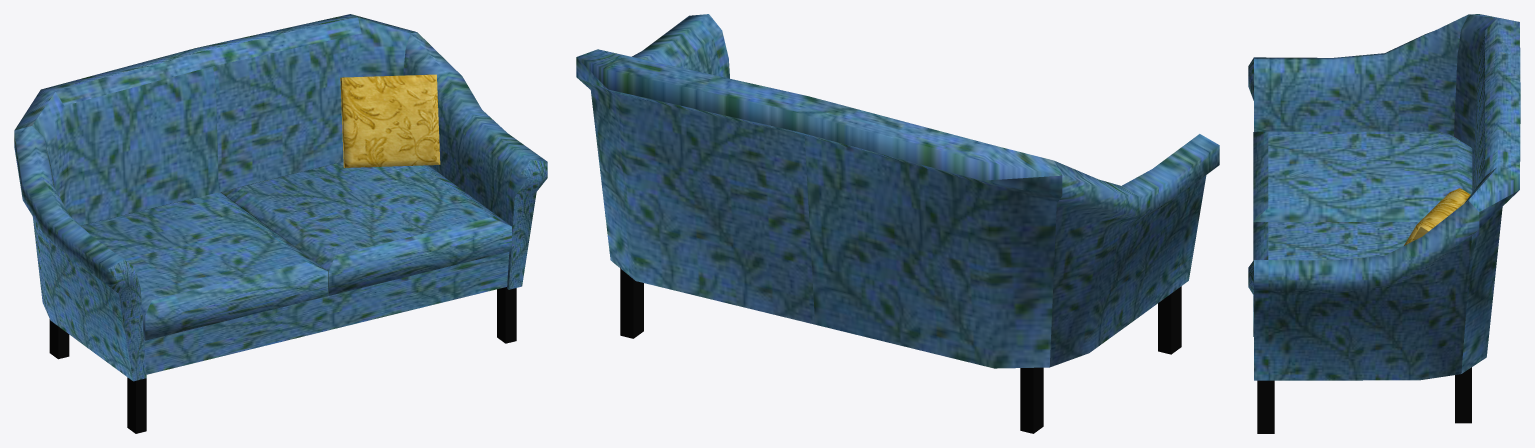
File: couch5.obj
The picture shows the model from 3 angles, left to right: view 1: azimuth 30°, elevation 25°; view 2: azimuth 150°, elevation 25°; view 3: azimuth 270°, elevation 25°; orthographic projection. The views are drawn at different scales.
Parts seen in each view (by area): view 1: br_couch5; view 2: br_couch5; view 3: br_couch5.
Boxes of the visible parts, x1,y1,x2,y2 form: br_couch5: [14, 14, 547, 433]; br_couch5: [576, 14, 1219, 433]; br_couch5: [1248, 14, 1520, 433].
Bounding box in the file's own units: 68.45 × 37.02 × 36.42.
Materials: 1 (1 with a texture image).
